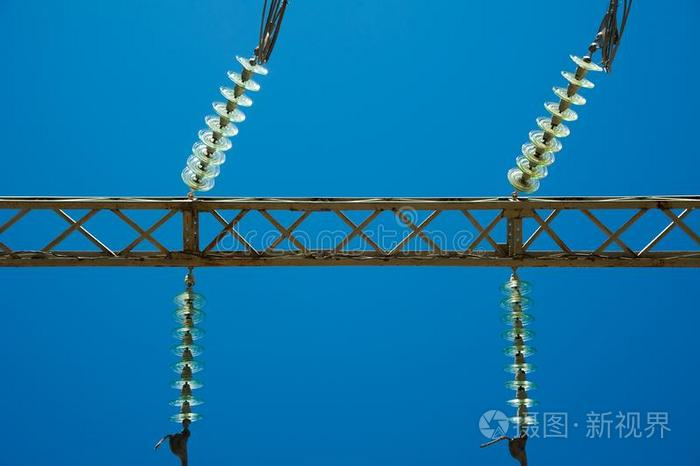insulator: (508, 52, 605, 191), (180, 54, 265, 191), (500, 279, 541, 429), (171, 286, 205, 426)
